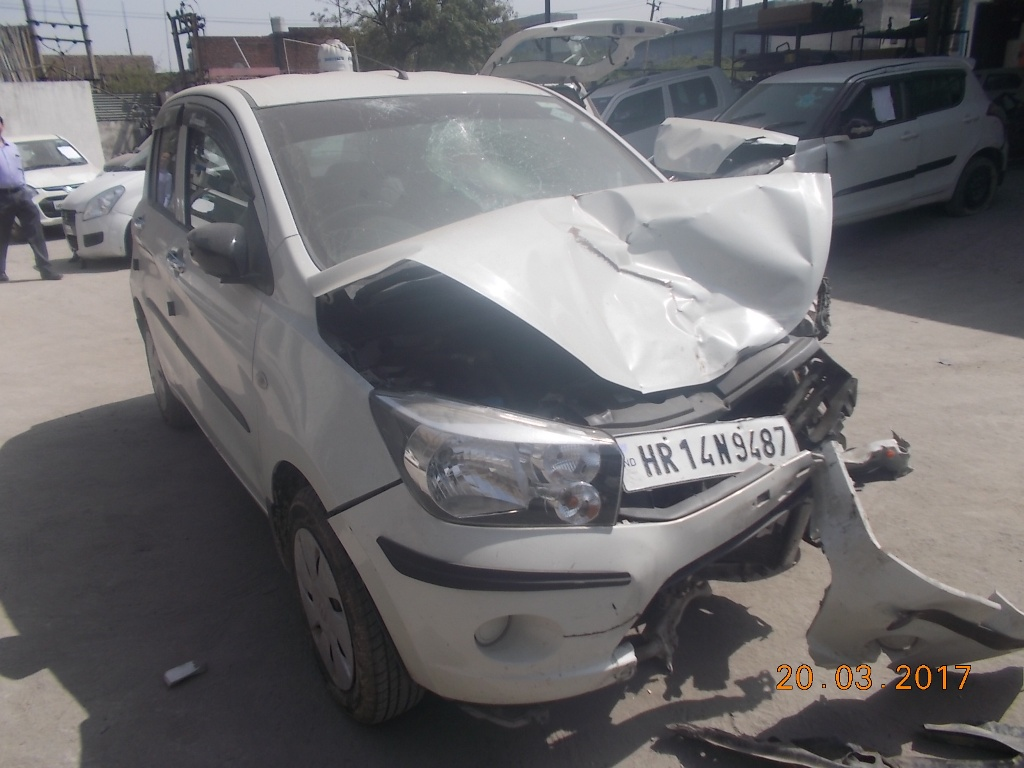Large_tear_or_damage: (350, 225, 837, 623)
Shatter: (420, 110, 504, 208)
